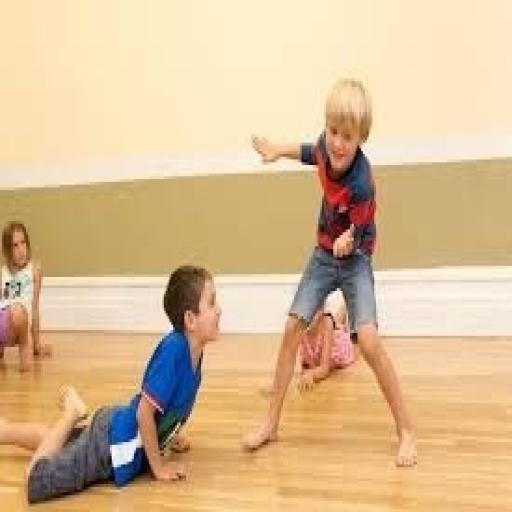dancing: (238, 73, 421, 470), (0, 260, 225, 506)
